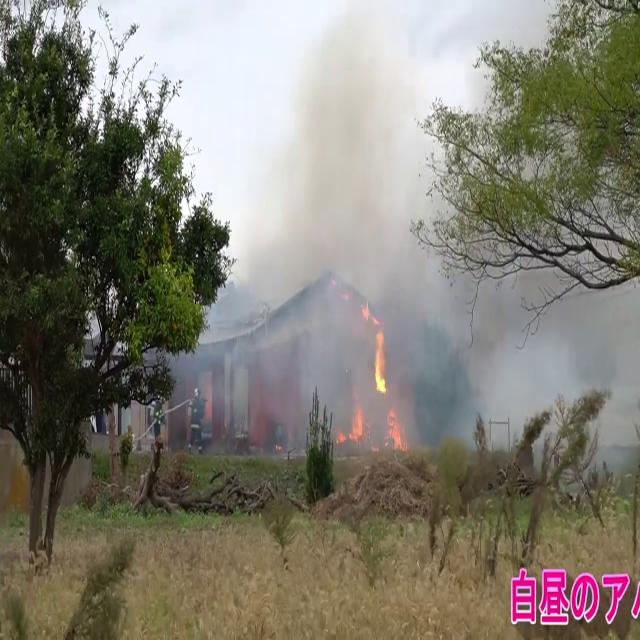Fire: (369, 323, 393, 400)
Smoke: (195, 2, 479, 450)
